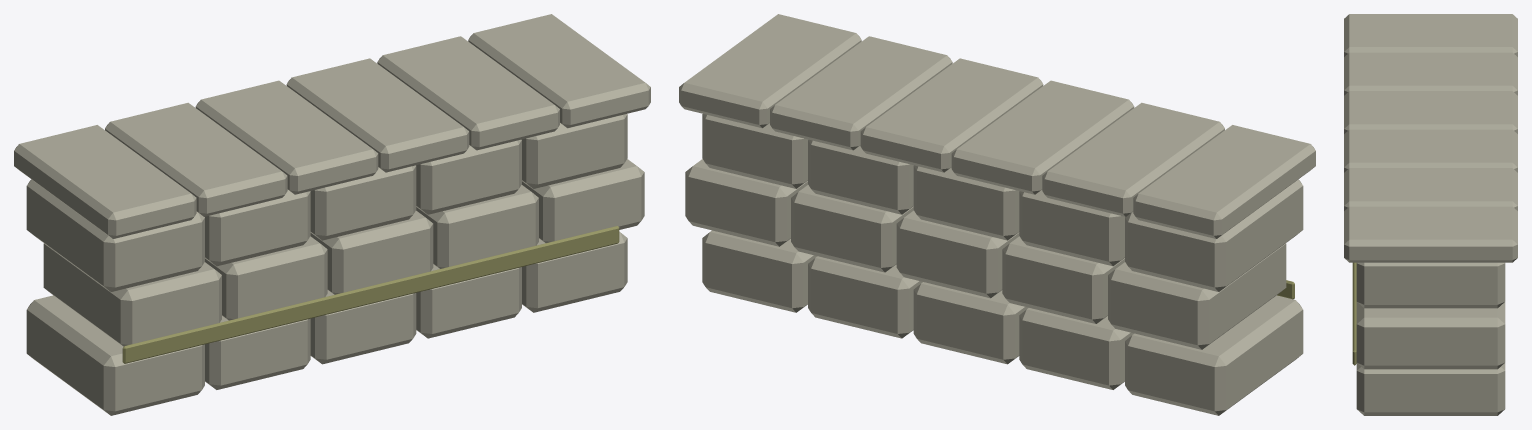
3 renders of one model, left to right at view 1: azimuth 30°, elevation 25°; view 2: azimuth 150°, elevation 25°; view 3: azimuth 270°, elevation 25°, orthographic. The views are drawn at different scales.
Parts seen in each view (by area): view 1: CE-031 Stone-built quay edge segment batched; view 2: CE-031 Stone-built quay edge segment batched; view 3: CE-031 Stone-built quay edge segment batched.
Boxes of the visible parts, left/top/right/bottom form: CE-031 Stone-built quay edge segment batched: left=14, top=14, right=650, bottom=415; CE-031 Stone-built quay edge segment batched: left=679, top=14, right=1315, bottom=415; CE-031 Stone-built quay edge segment batched: left=1344, top=14, right=1517, bottom=415.
Bounding box in the file's own units: 2.58 × 0.955 × 0.82.
